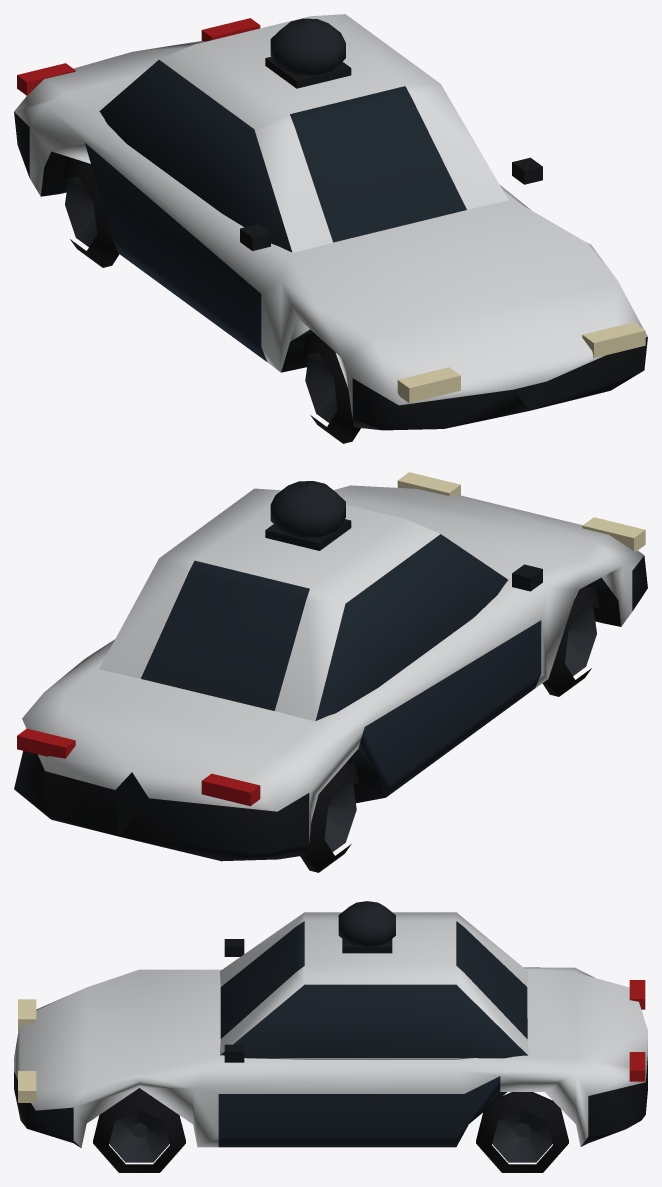
Rendered from mobile-low.glb.
3 renders of one model, top to bottom at view 1: azimuth 30°, elevation 25°; view 2: azimuth 150°, elevation 25°; view 3: azimuth 270°, elevation 25°, orthographic. The views are drawn at different scales.
Parts seen in each view (by area): view 1: body, dome, tyre_rr, tyre_fr, light_head_r, rim_fr, rim_rr, light_head_l, light_brake_r, light_brake_l; view 2: body, dome, tyre_rr, tyre_fr, rim_rr, rim_fr, light_brake_r, light_brake_l, light_head_r, light_head_l; view 3: body, tyre_rl, tyre_fl, rim_fl, rim_rl, dome, light_head_l, light_brake_l, light_head_r, light_brake_r.
Part boxes in pixels (bbox=[...]): body: bbox=[14, 14, 647, 430]; dome: bbox=[270, 18, 345, 75]; tyre_rr: bbox=[62, 158, 119, 267]; tyre_fr: bbox=[303, 333, 360, 443]; light_head_r: bbox=[397, 367, 460, 403]; rim_fr: bbox=[305, 353, 337, 422]; rim_rr: bbox=[65, 177, 97, 246]; light_head_l: bbox=[582, 322, 645, 357]; light_brake_r: bbox=[17, 63, 75, 95]; light_brake_l: bbox=[201, 18, 260, 41]; body: bbox=[14, 485, 647, 861]; dome: bbox=[270, 481, 345, 537]; tyre_rr: bbox=[300, 762, 358, 872]; tyre_fr: bbox=[542, 586, 599, 696]; rim_rr: bbox=[324, 782, 356, 851]; rim_fr: bbox=[564, 606, 596, 675]; light_brake_r: bbox=[201, 773, 260, 806]; light_brake_l: bbox=[17, 728, 75, 758]; light_head_r: bbox=[582, 517, 645, 551]; light_head_l: bbox=[397, 472, 460, 496]; body: bbox=[14, 912, 647, 1148]; tyre_rl: bbox=[476, 1092, 568, 1172]; tyre_fl: bbox=[93, 1088, 185, 1172]; rim_fl: bbox=[109, 1110, 169, 1162]; rim_rl: bbox=[492, 1110, 552, 1162]; dome: bbox=[338, 901, 395, 946]; light_head_l: bbox=[18, 1071, 36, 1102]; light_brake_l: bbox=[629, 1052, 645, 1081]; light_head_r: bbox=[18, 999, 36, 1030]; light_brake_r: bbox=[629, 980, 645, 1009].
Size of what is drawn, in the model's own units: 2.03 by 1.84 by 4.8.
